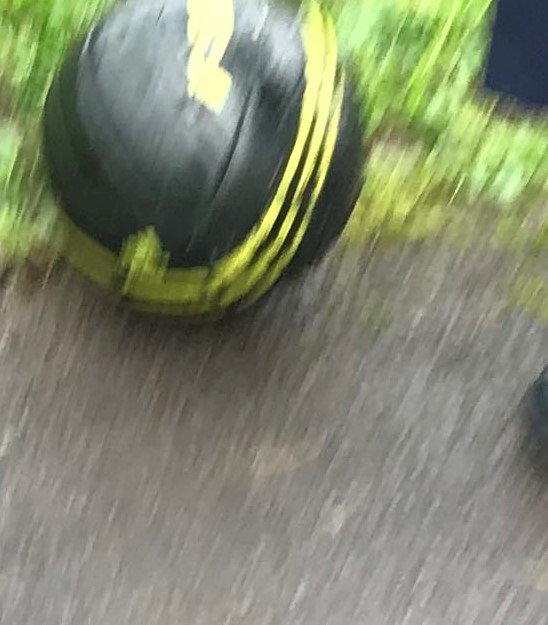football: (35, 20, 348, 309)
